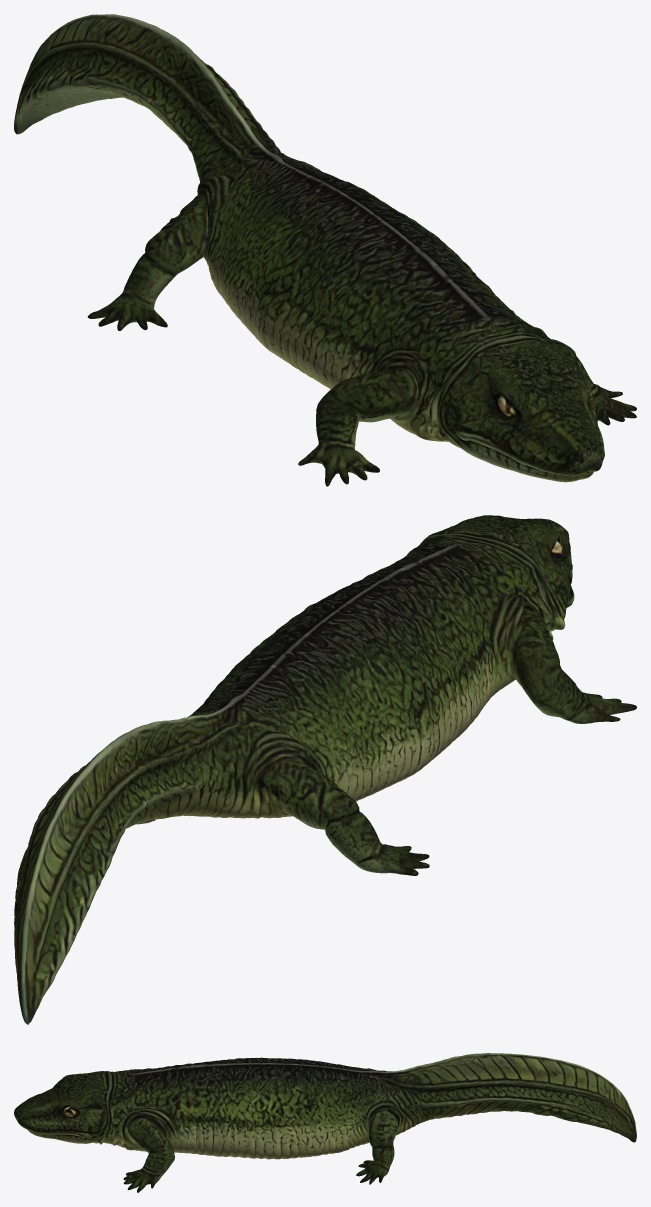
File: amphibian.glb
3 renders of one model, top to bottom at view 1: azimuth 30°, elevation 25°; view 2: azimuth 150°, elevation 25°; view 3: azimuth 270°, elevation 25°, orthographic. The views are drawn at different scales.
Parts seen in each view (by area): view 1: model; view 2: model; view 3: model.
Part boxes in pixels (bbox=[...]): model: bbox=[14, 14, 636, 486]; model: bbox=[14, 515, 636, 1024]; model: bbox=[14, 1053, 636, 1192].
Size of the model in its own units: 0.6701 by 0.3361 by 1.9.
1 material, 1 textured.
